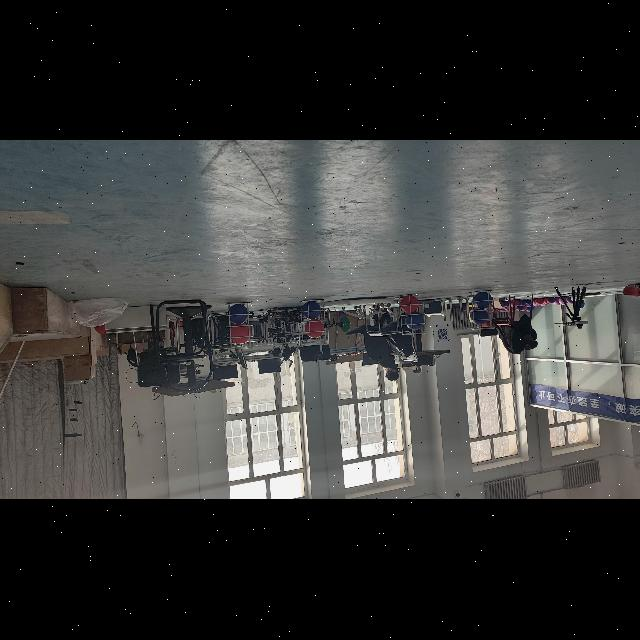B: (228, 306, 250, 326), (300, 300, 322, 320), (474, 291, 492, 311), (406, 313, 424, 331), (472, 310, 488, 324)
R: (230, 324, 252, 344), (304, 320, 324, 340), (399, 296, 418, 314)
S: (227, 300, 256, 352), (298, 298, 328, 348), (397, 292, 428, 338), (467, 290, 498, 332)
